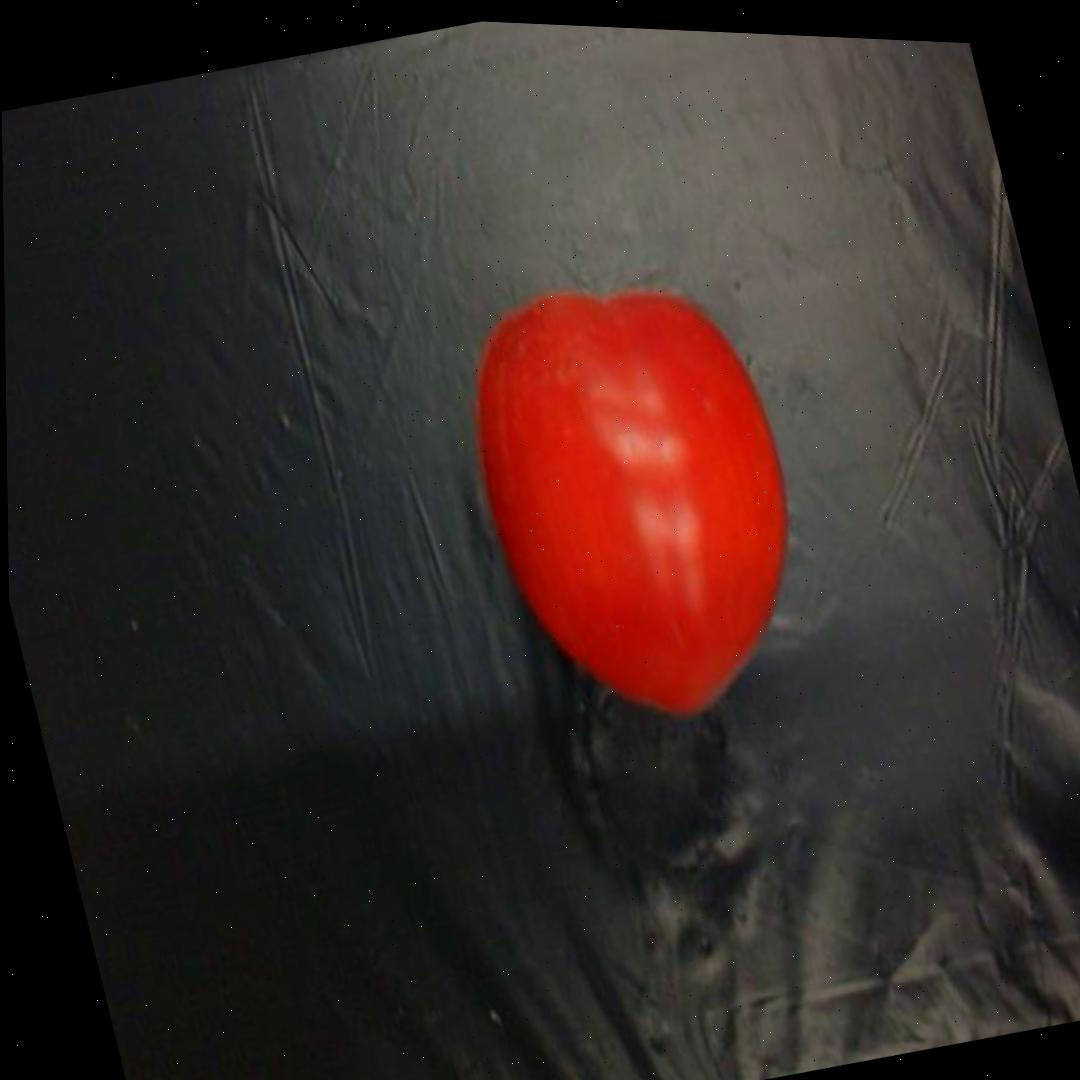matang: (444, 251, 837, 761)
